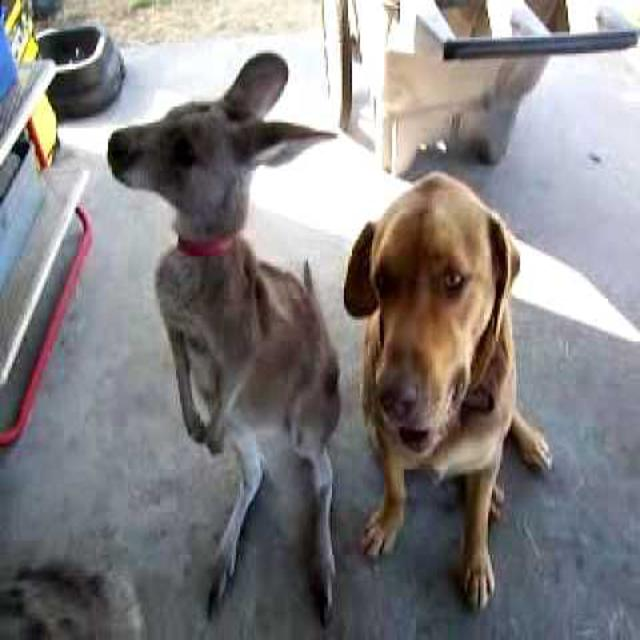kangaroo: (98, 52, 351, 583)
